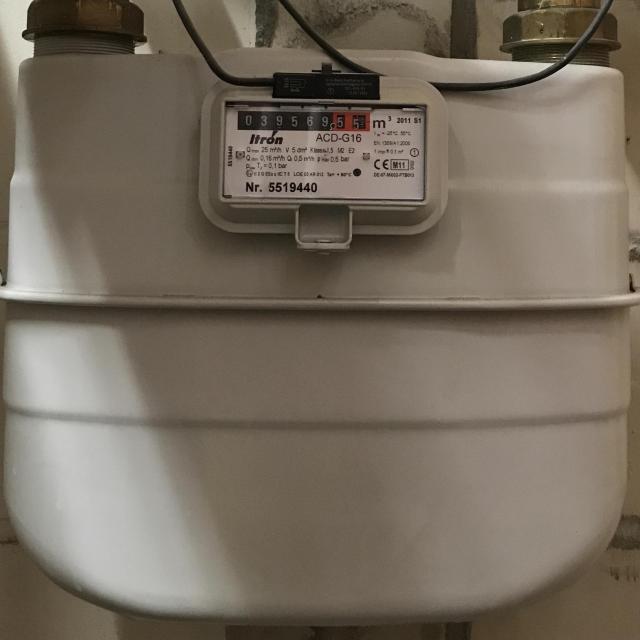gaz_meter: (221, 98, 426, 200)
indication: (237, 110, 371, 132)
